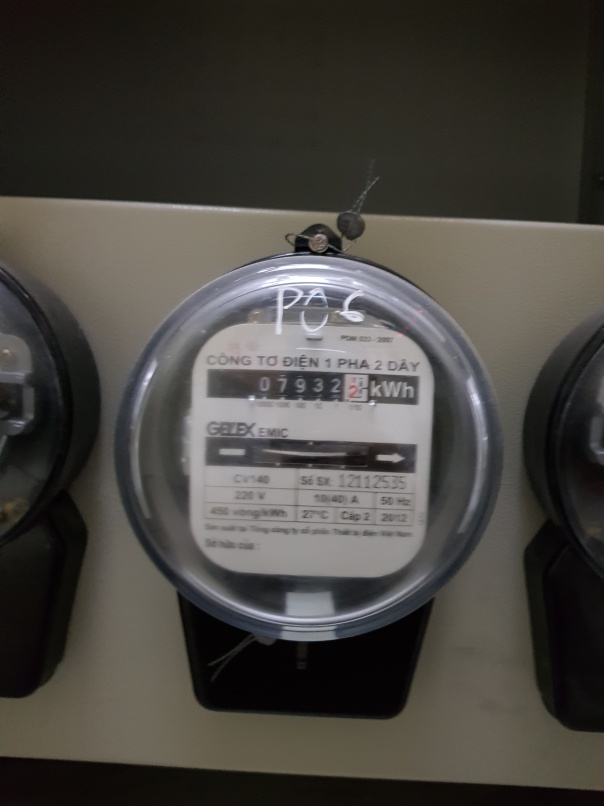counter: (208, 369, 419, 404)
electricity_meter: (113, 254, 507, 637)
